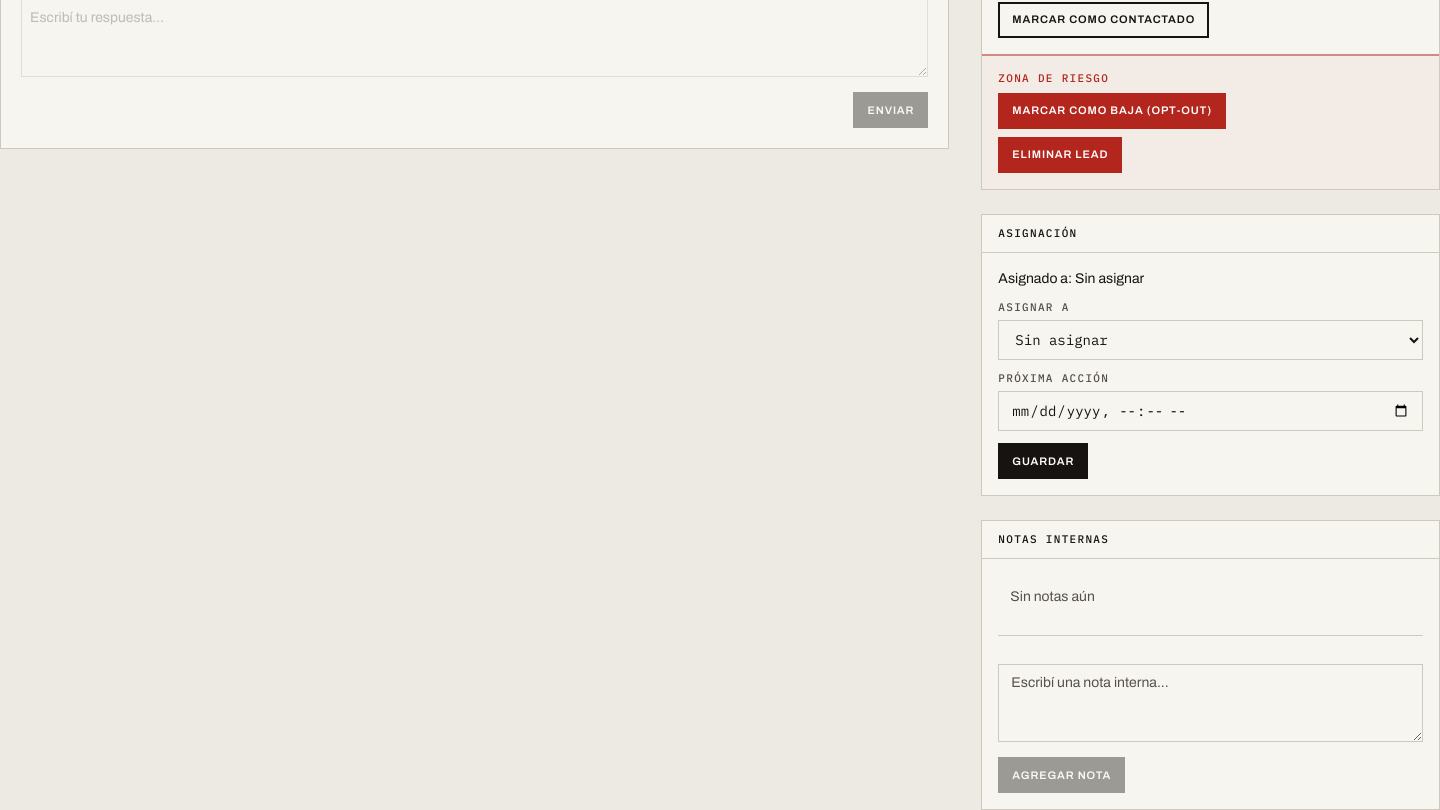
Test: LeadDetailPage › integración: agregar una nota real desde el form la refleja en la lista sin recargar (AC-5/AC-7)
The image size is (1440, 810).
(page scrolled)
Type "Habló por teléfono, pidió más fotos" into the text box with test id "note-form-textarea" at (1211, 704), box x1=998 y1=664 x2=1423 y2=742
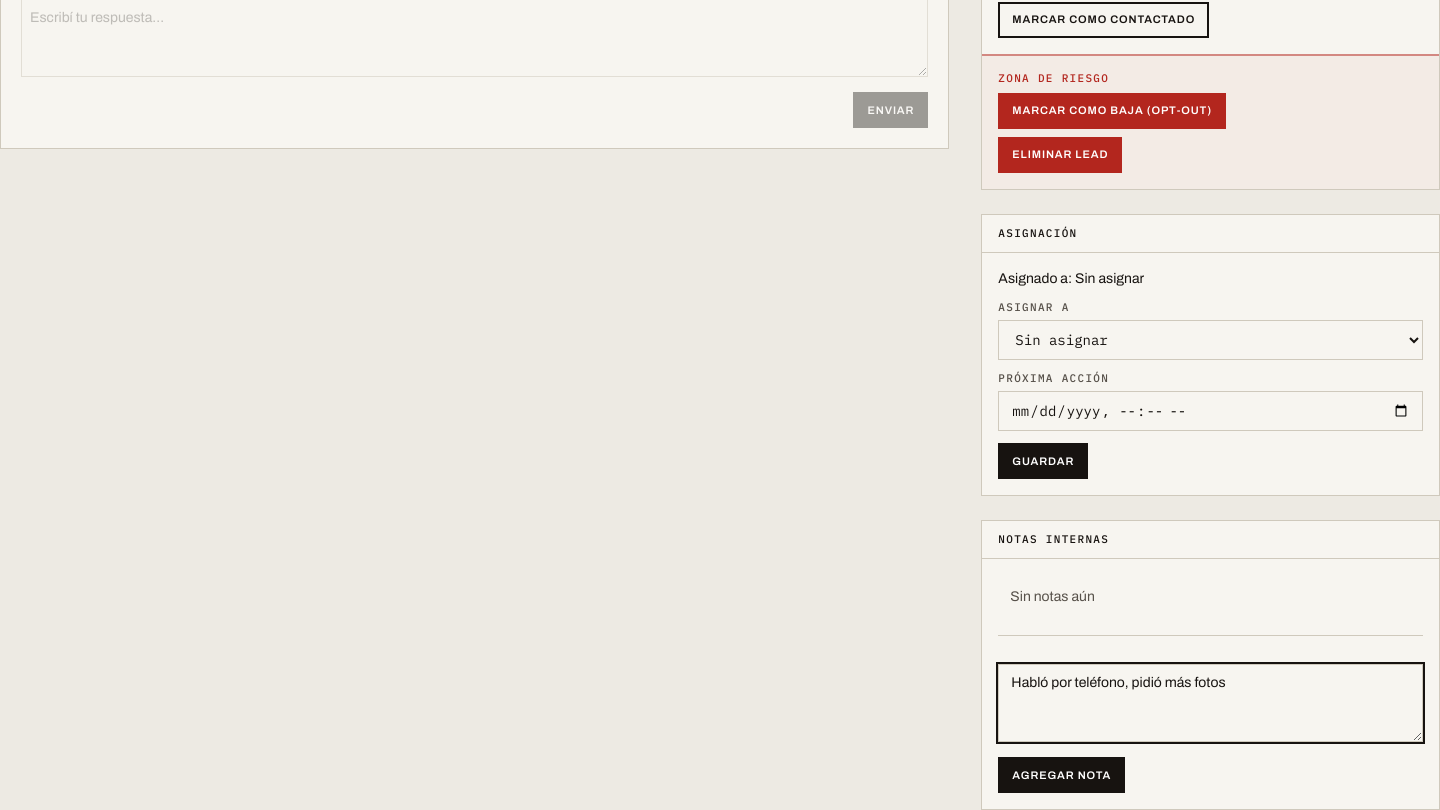
Click the button with test id "note-form-submit" at (1062, 776), box x1=998 y1=758 x2=1125 y2=794
(page scrolled)
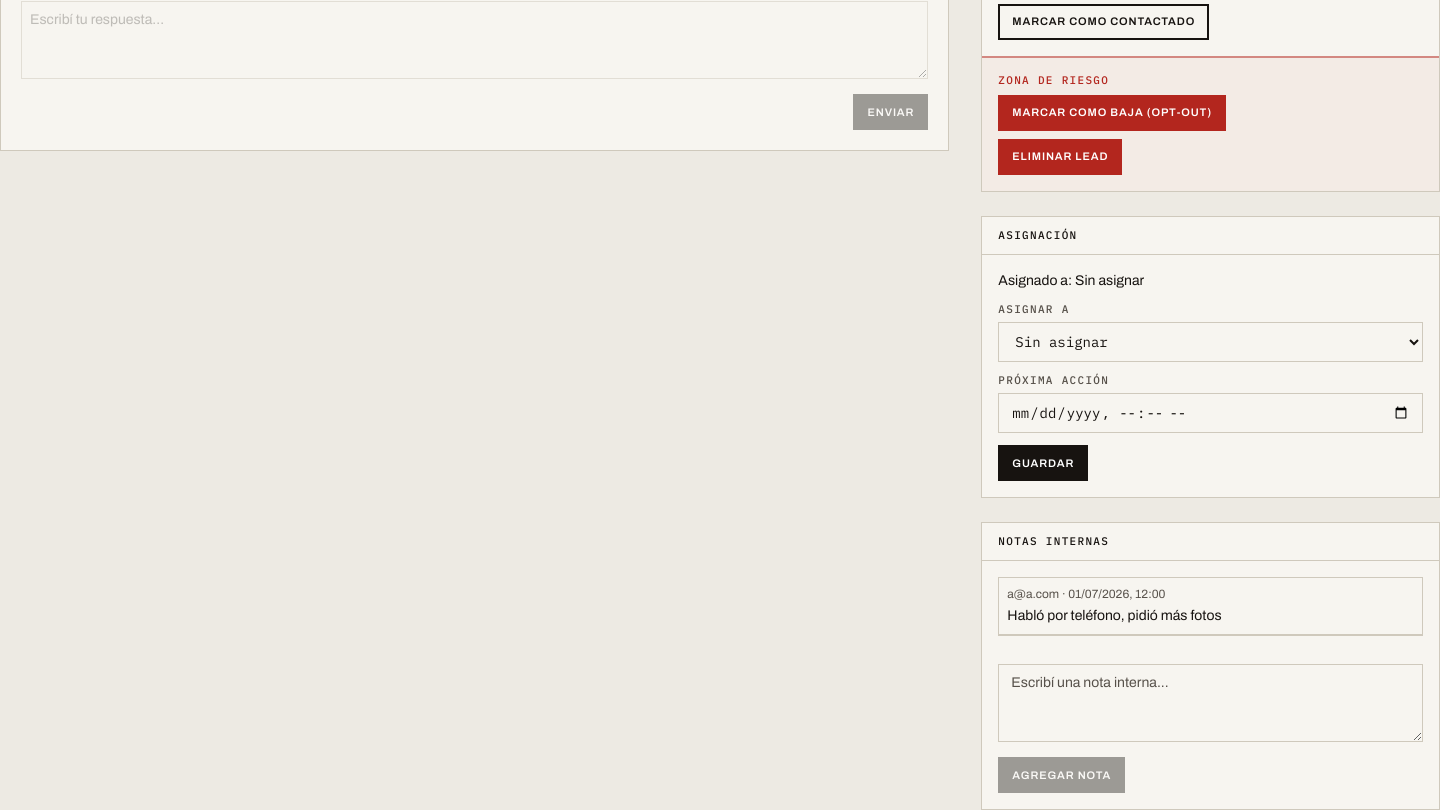
Result: the list item with test id "lead-note-note-1" is shown at x1=998 y1=578 x2=1423 y2=636
Result: the text with test id "lead-note-body-note-1" reads "Habló por teléfono, pidió más fotos" at x1=1007 y1=608 x2=1222 y2=624
